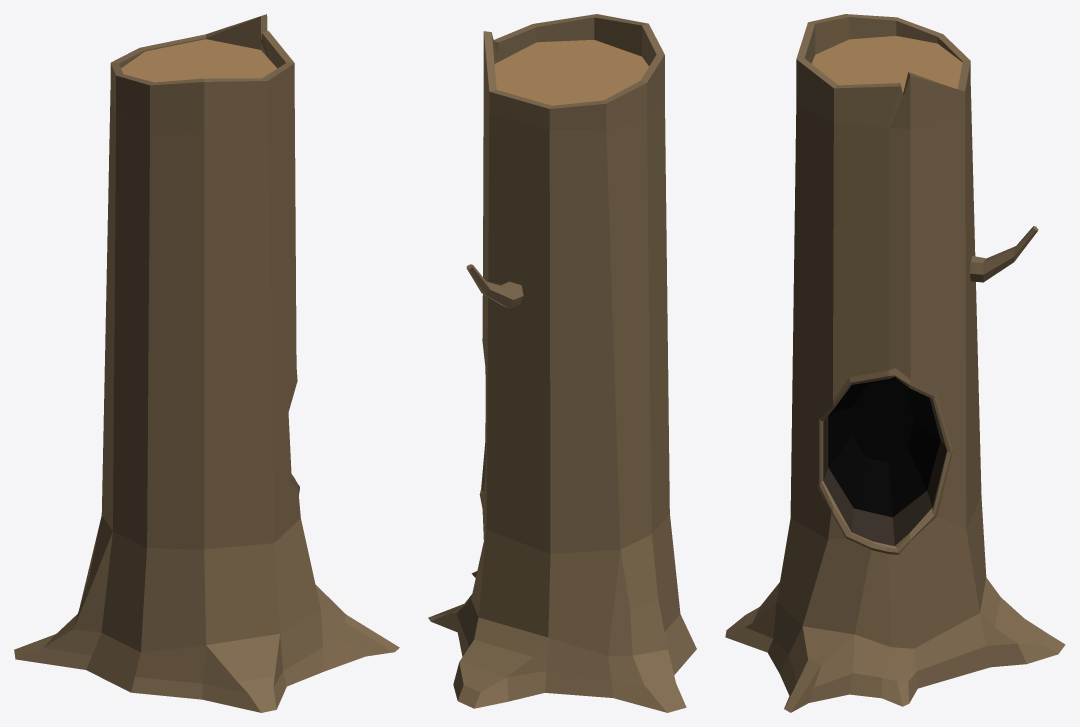
File: treeHole.glb
The picture shows the model from 3 angles, left to right: view 1: azimuth 30°, elevation 25°; view 2: azimuth 150°, elevation 25°; view 3: azimuth 270°, elevation 25°; orthographic projection.
Visible parts, largest first — view 1: Cylinder.003; view 2: Cylinder.003; view 3: Cylinder.003.
Part boxes in pixels (box(x1,y1,x2,y2)): Cylinder.003: box(14, 14, 399, 712); Cylinder.003: box(428, 14, 696, 712); Cylinder.003: box(725, 14, 1065, 712).
Bounding box in the file's own units: 11.69 × 22.58 × 11.56.
